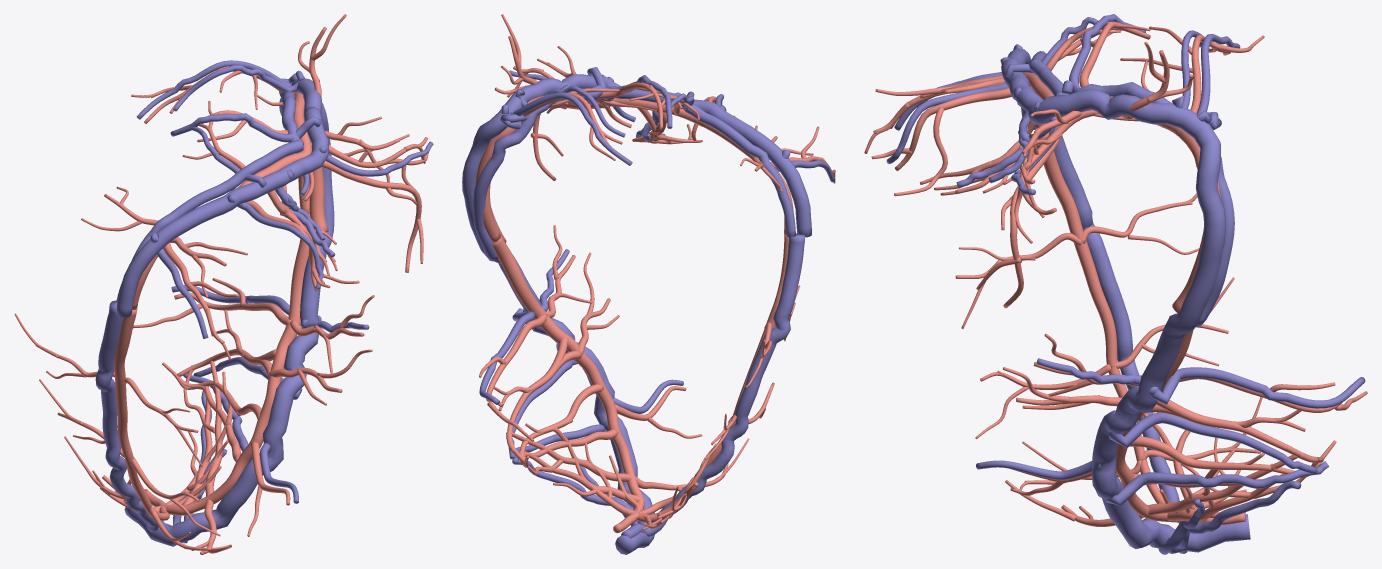
The model's file is vessels_61.glb.
3 views of the same model, side by side, from view 1: azimuth 30°, elevation 25°; view 2: azimuth 150°, elevation 25°; view 3: azimuth 270°, elevation 25° (orthographic). The views are drawn at different scales.
Parts seen in each view (by area): view 1: Renderer Node; view 2: Renderer Node; view 3: Renderer Node.
Boxes of the visible parts, bbox=[...] form: Renderer Node: bbox=[14, 14, 433, 554]; Renderer Node: bbox=[462, 14, 835, 554]; Renderer Node: bbox=[864, 14, 1367, 554].
Bounding box in the file's own units: 88.25 × 121 × 91.03.
